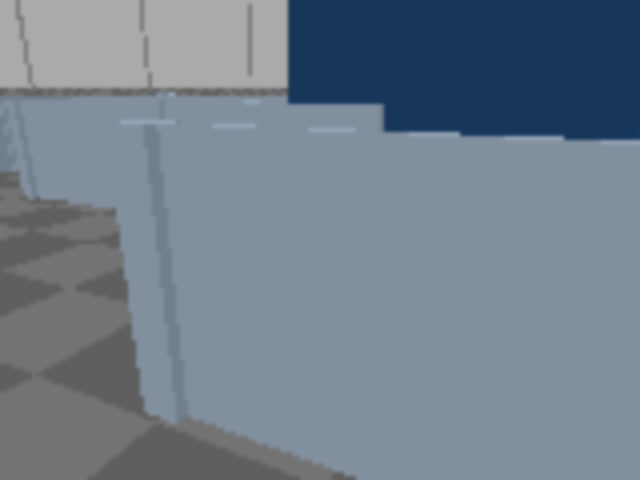person: (381, 0, 638, 377)
